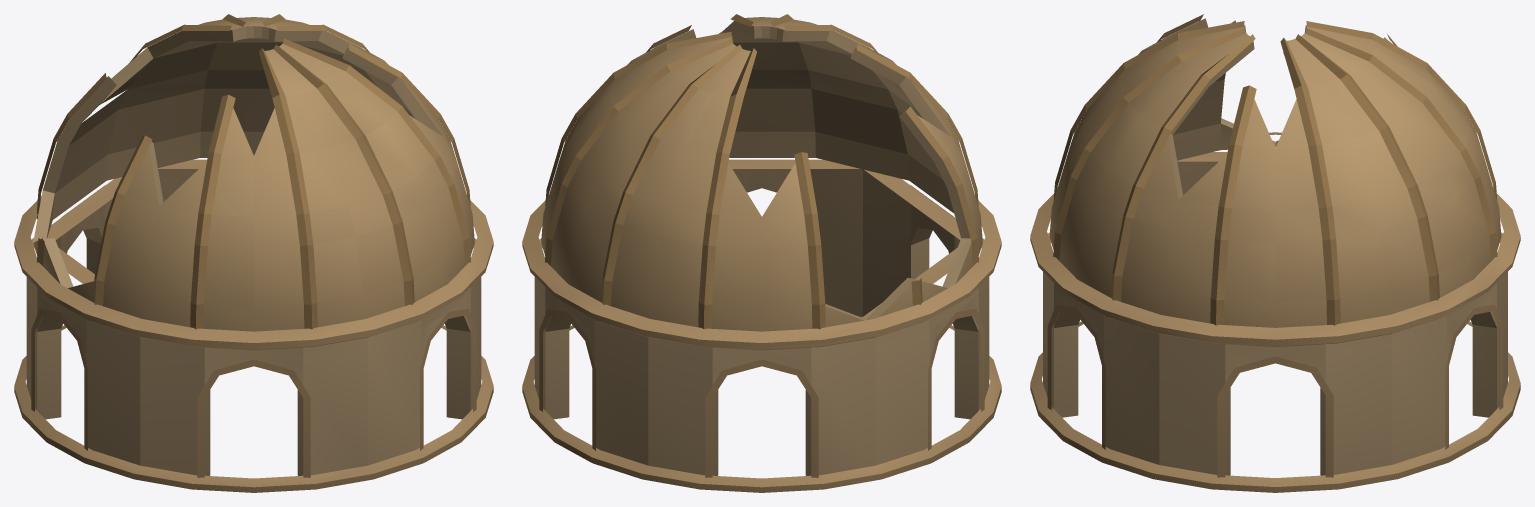
Rendered from dome.ruin_12.sandstone.glb.
3 views of the same model, side by side, from view 1: azimuth 30°, elevation 25°; view 2: azimuth 150°, elevation 25°; view 3: azimuth 270°, elevation 25° (orthographic). The views are drawn at different scales.
Visible parts, largest first — view 1: dome_ruin_12_sandstone; view 2: dome_ruin_12_sandstone; view 3: dome_ruin_12_sandstone.
Boxes of the visible parts, x1=… form: dome_ruin_12_sandstone: x1=14, y1=14, x2=493, y2=492; dome_ruin_12_sandstone: x1=522, y1=14, x2=1001, y2=492; dome_ruin_12_sandstone: x1=1030, y1=14, x2=1520, y2=492.
Size of what is drawn, in the model's own units: 7.6 by 6.23 by 7.6.
